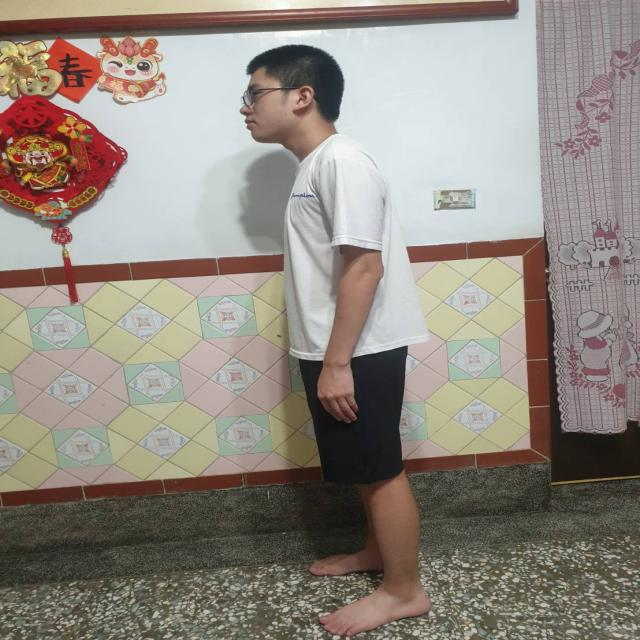stand: (216, 24, 454, 640)
